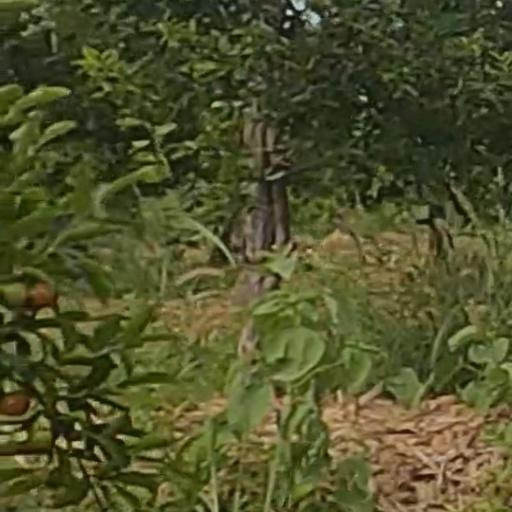acerola_vermelha: (2, 391, 28, 417), (28, 284, 58, 306)
